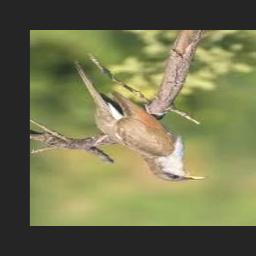Cuckoo: (75, 61, 207, 182)
